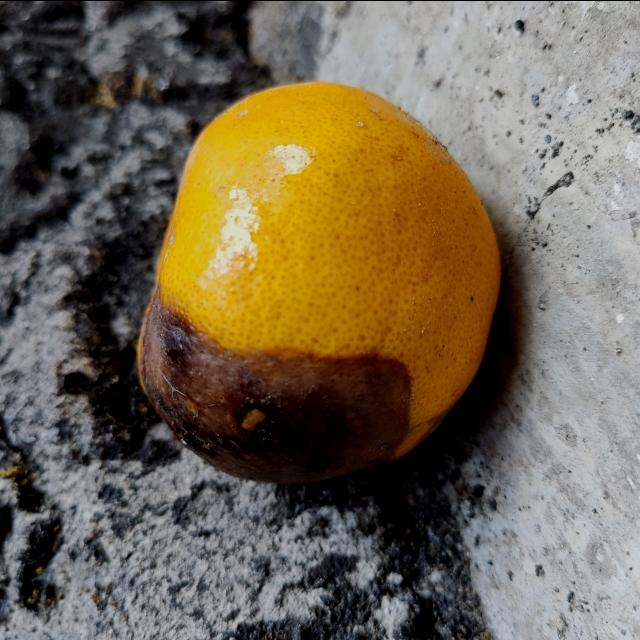agrume: (133, 73, 499, 482)
